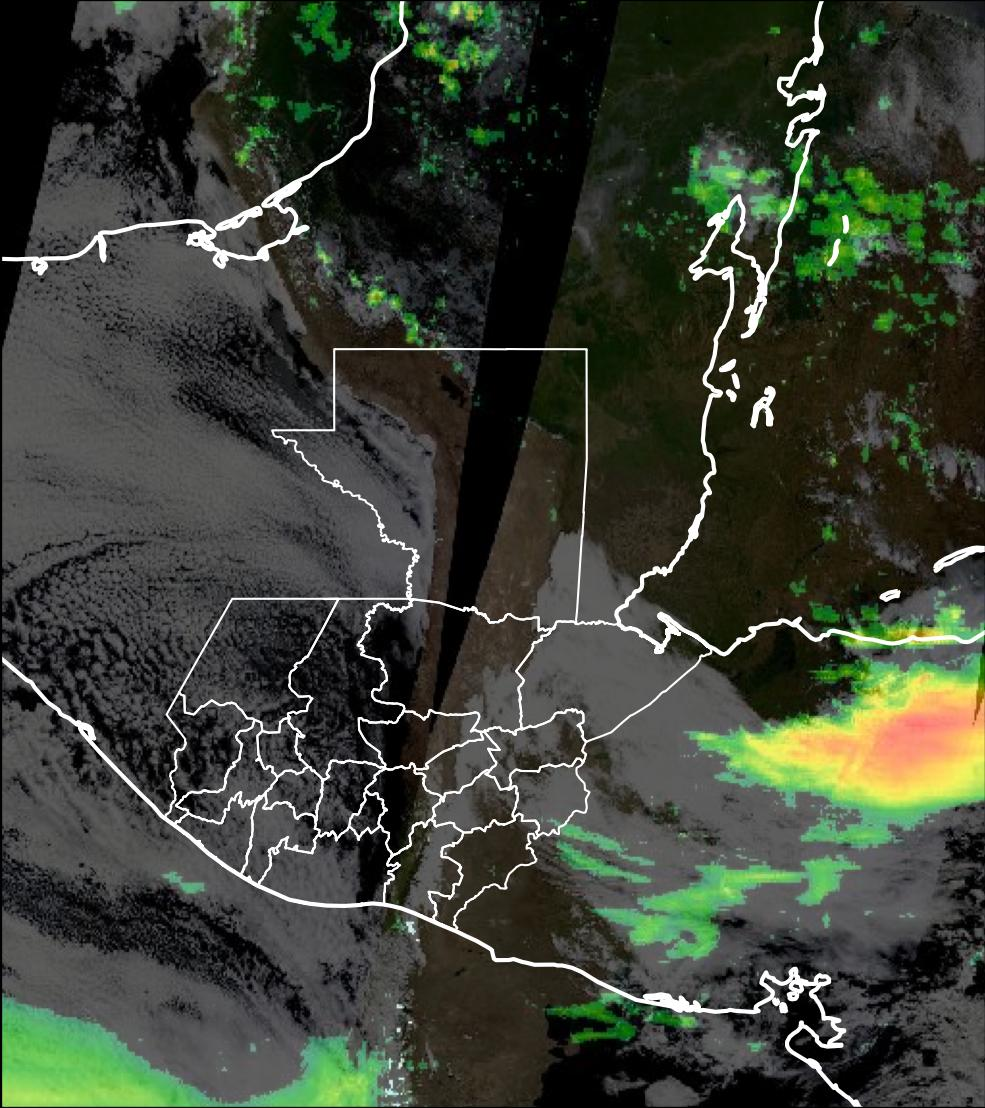precipitacion: (777, 680, 980, 811)
